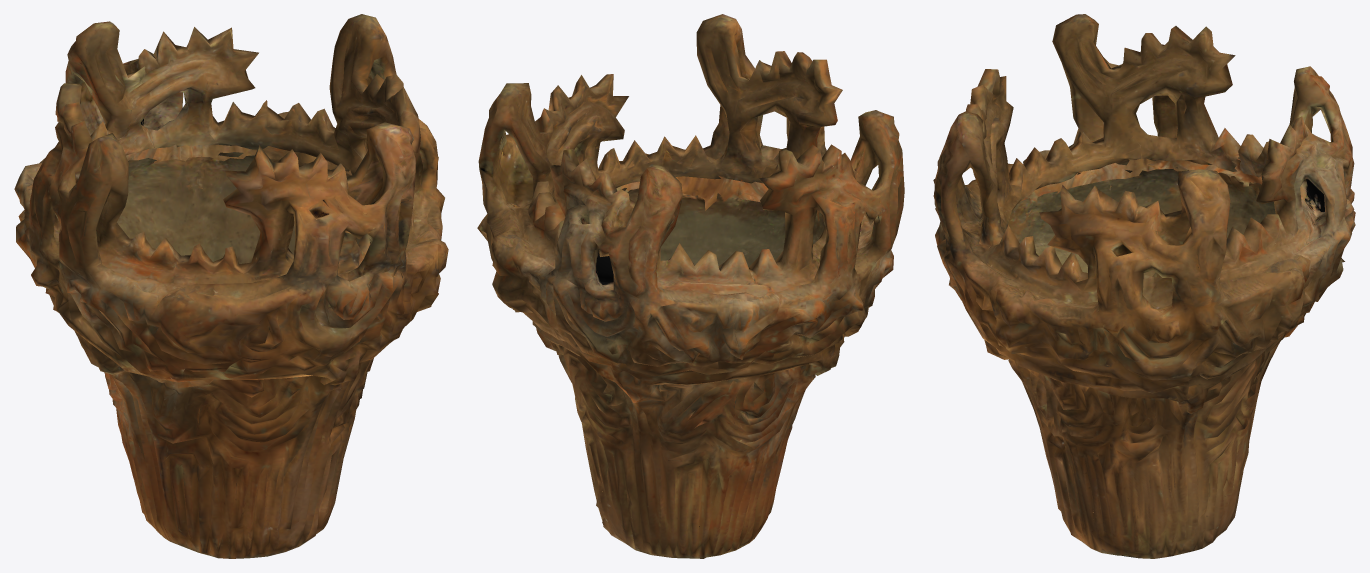
3 views of the same model, side by side, from view 1: azimuth 30°, elevation 25°; view 2: azimuth 150°, elevation 25°; view 3: azimuth 270°, elevation 25° (orthographic). The views are drawn at different scales.
Parts seen in each view (by area): view 1: TJ0004_low; view 2: TJ0004_low; view 3: TJ0004_low.
Boxes of the visible parts, x1,y1,x2,y2 form: TJ0004_low: [14, 14, 448, 558]; TJ0004_low: [477, 14, 904, 558]; TJ0004_low: [933, 14, 1355, 558].
Bounding box in the file's own units: 294 × 331 × 293.
Materials: 1 (1 with a texture image).
